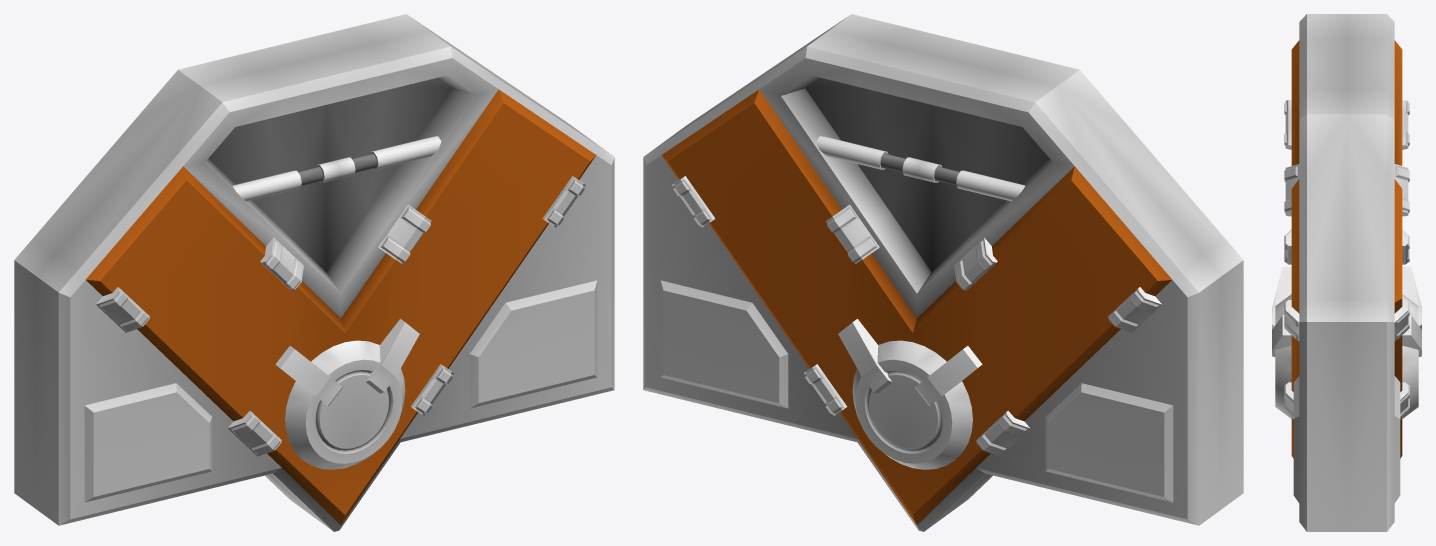
Rendered from doorSingle_top.FBX.
3 views of the same model, side by side, from view 1: azimuth 30°, elevation 25°; view 2: azimuth 150°, elevation 25°; view 3: azimuth 270°, elevation 25° (orthographic). The views are drawn at different scales.
Visible parts, largest first — view 1: doorSingle_top; view 2: doorSingle_top; view 3: doorSingle_top.
Part boxes in pixels (box(x1,y1,x2,y2)): doorSingle_top: box(14, 14, 614, 531); doorSingle_top: box(643, 14, 1243, 531); doorSingle_top: box(1272, 14, 1421, 531).
Bounding box in the file's own units: 1.52 × 1.2 × 0.3946.
